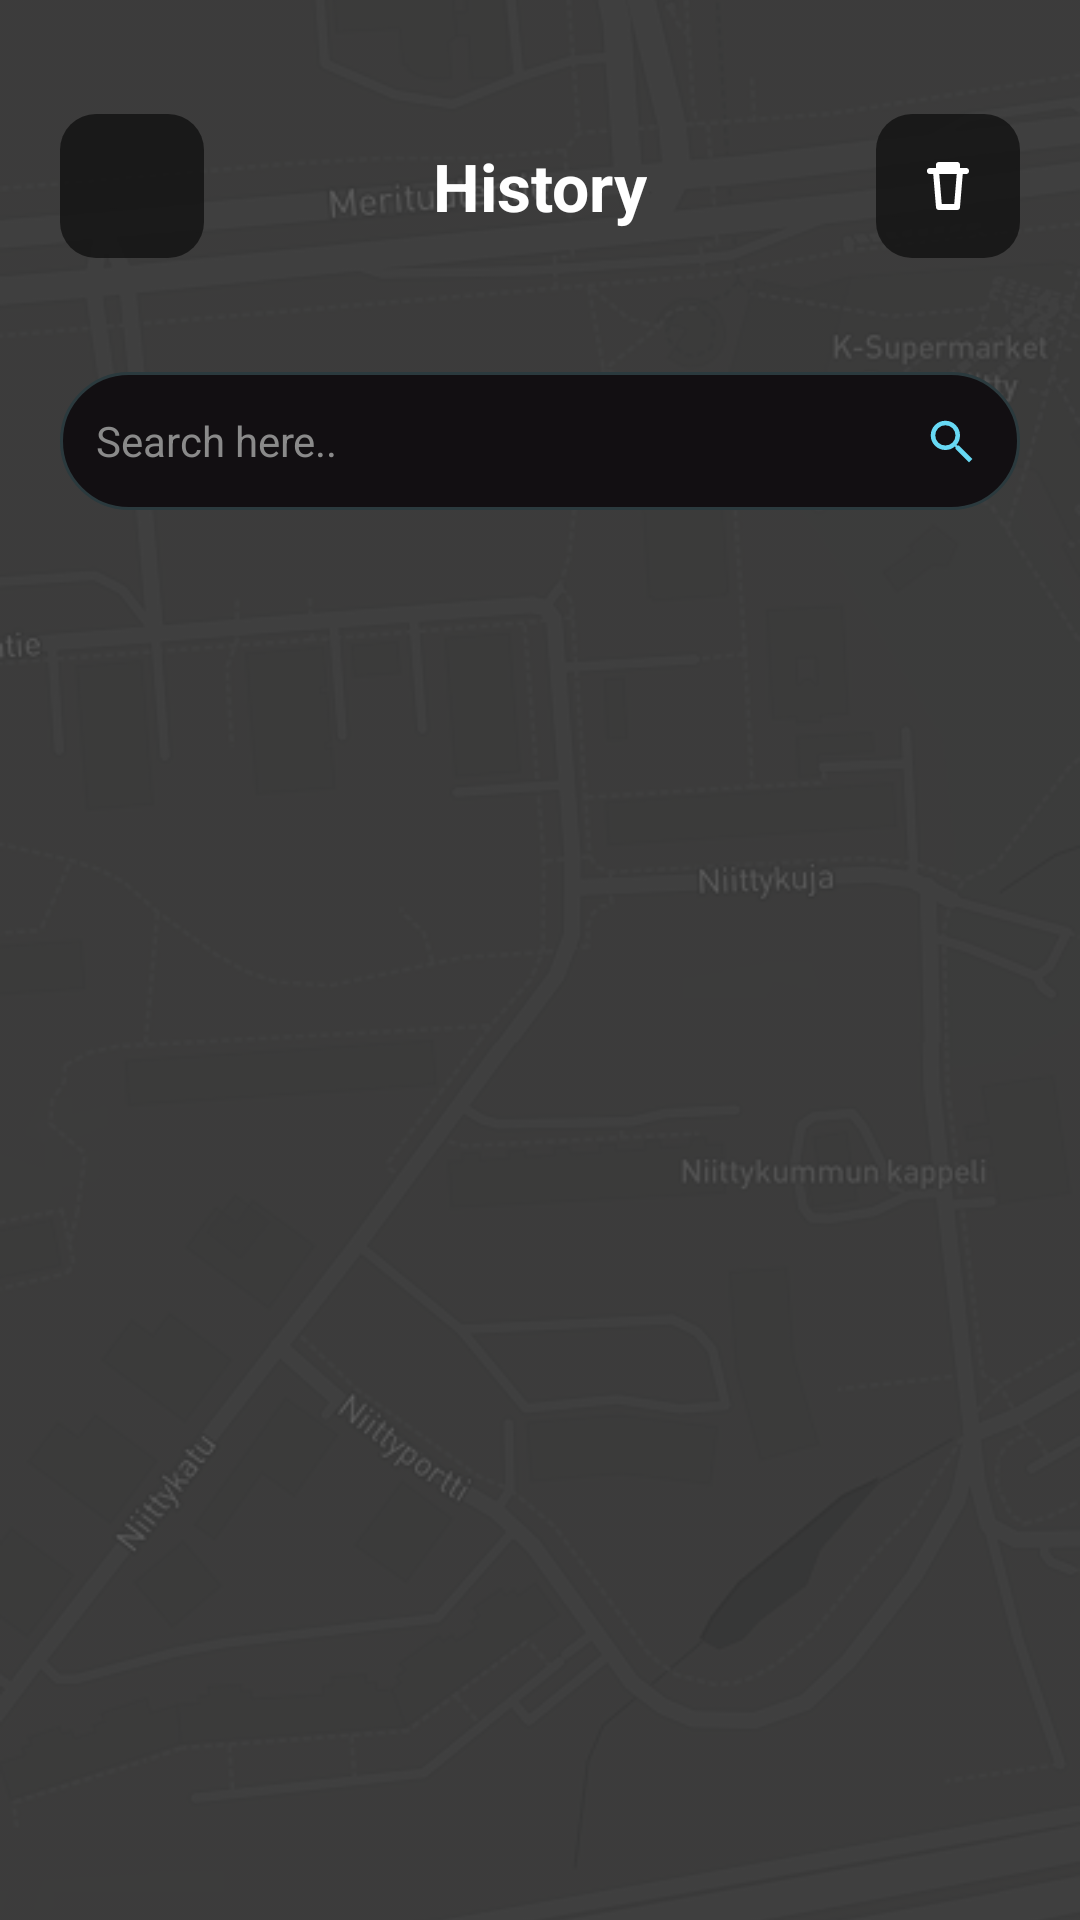

Icon bounding boxes for this 1080 × 1920 phone screenshot, format [x1,y1,x2,y2]:
Delete: [876,114,1020,258]
